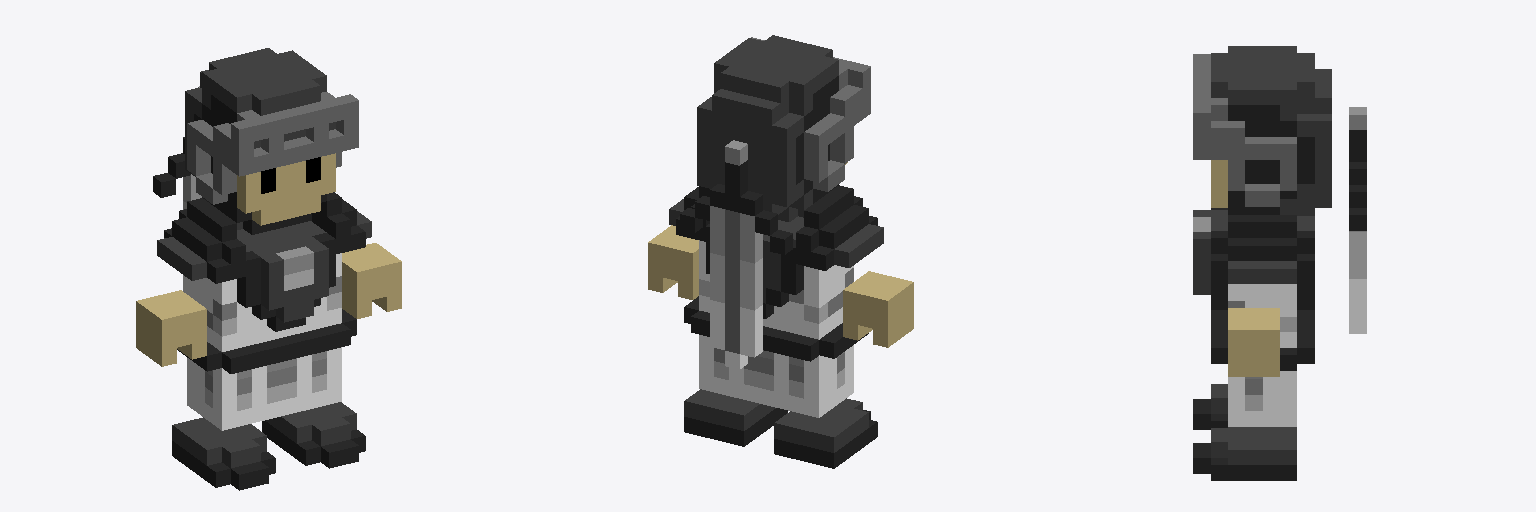
3 views of the same model, side by side, from view 1: azimuth 30°, elevation 25°; view 2: azimuth 150°, elevation 25°; view 3: azimuth 270°, elevation 25° (orthographic).
Visible parts, largest first — view 1: WhiteKnight; view 2: WhiteKnight; view 3: WhiteKnight.
Part boxes in pixels (bbox=[...]): WhiteKnight: bbox=[136, 48, 401, 490]; WhiteKnight: bbox=[648, 35, 913, 468]; WhiteKnight: bbox=[1193, 46, 1366, 480].
Bounding box in the file's own units: 16 × 24 × 10.
1 materials, 1 textured.